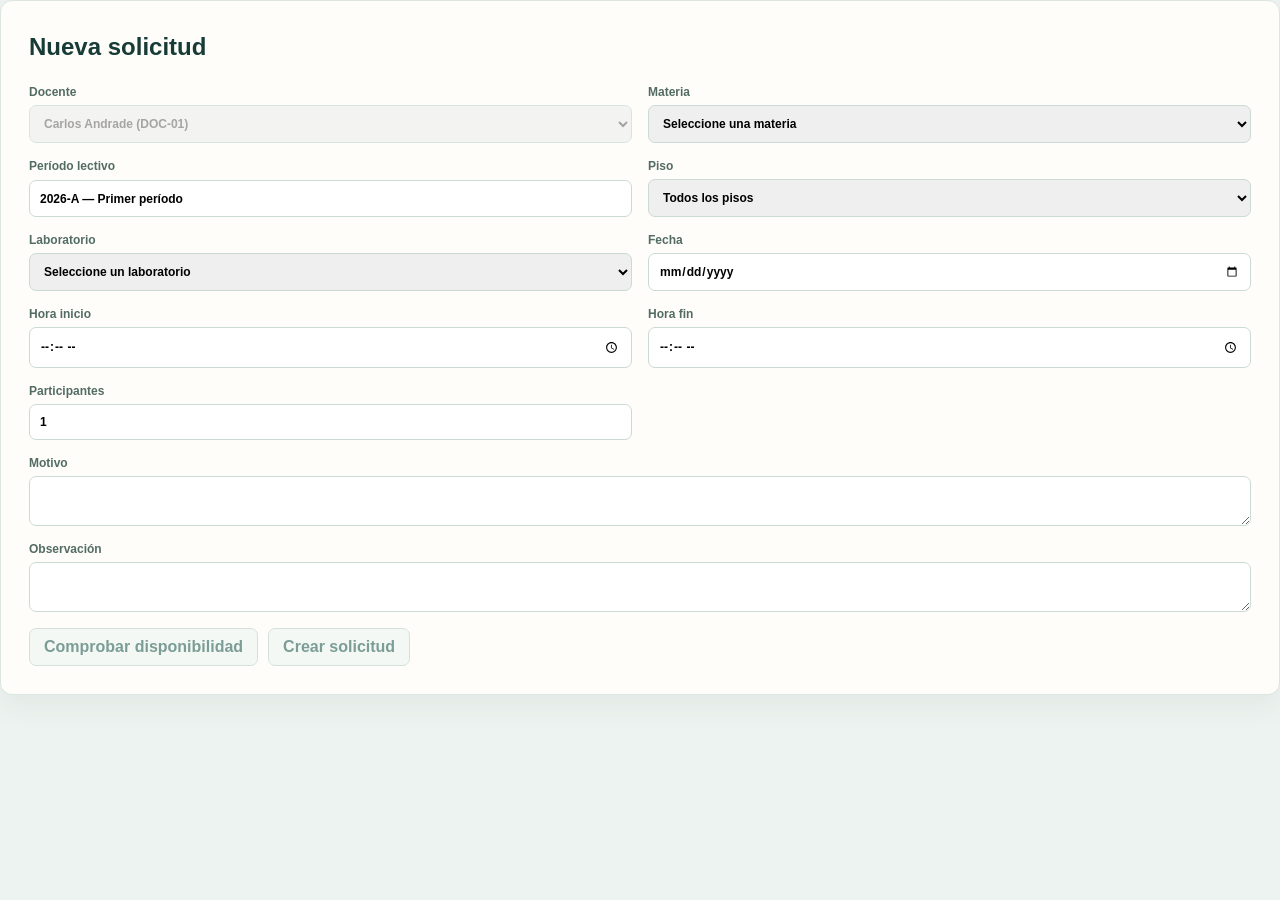
it: NuevaSolicitudPage › comprueba disponibilidad con una explicación humana
Select "MAT-1 — Redes I" in the dropdown labelled "Materia" at (950, 124), box left=648, top=105, right=1251, bottom=143
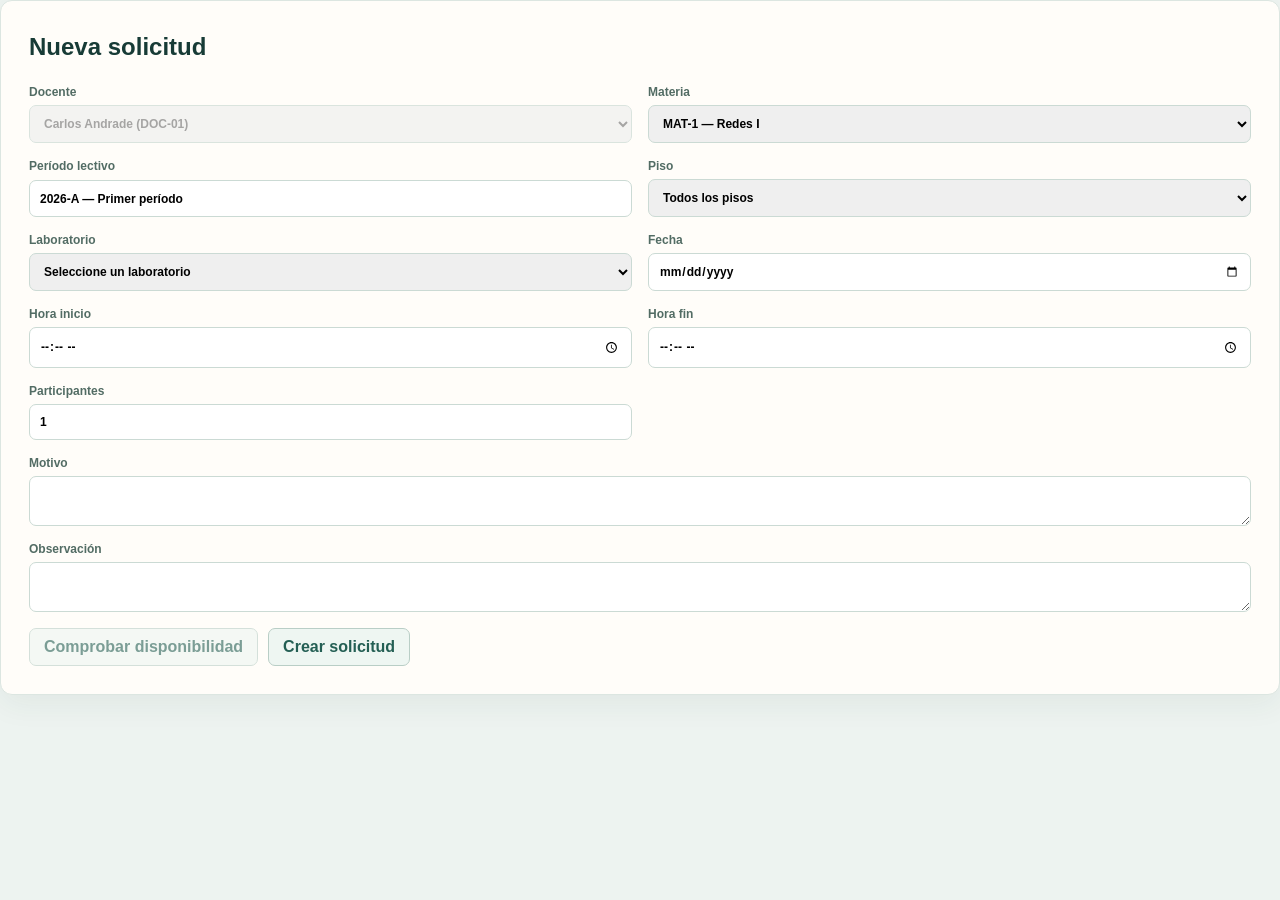
Select "LAB-1 — Redes — Piso 2" in the dropdown labelled "Laboratorio" at (330, 272), box left=29, top=253, right=632, bottom=291
Type "2099-08-20" into the date field labelled "Fecha" at (950, 272), box left=648, top=253, right=1251, bottom=291
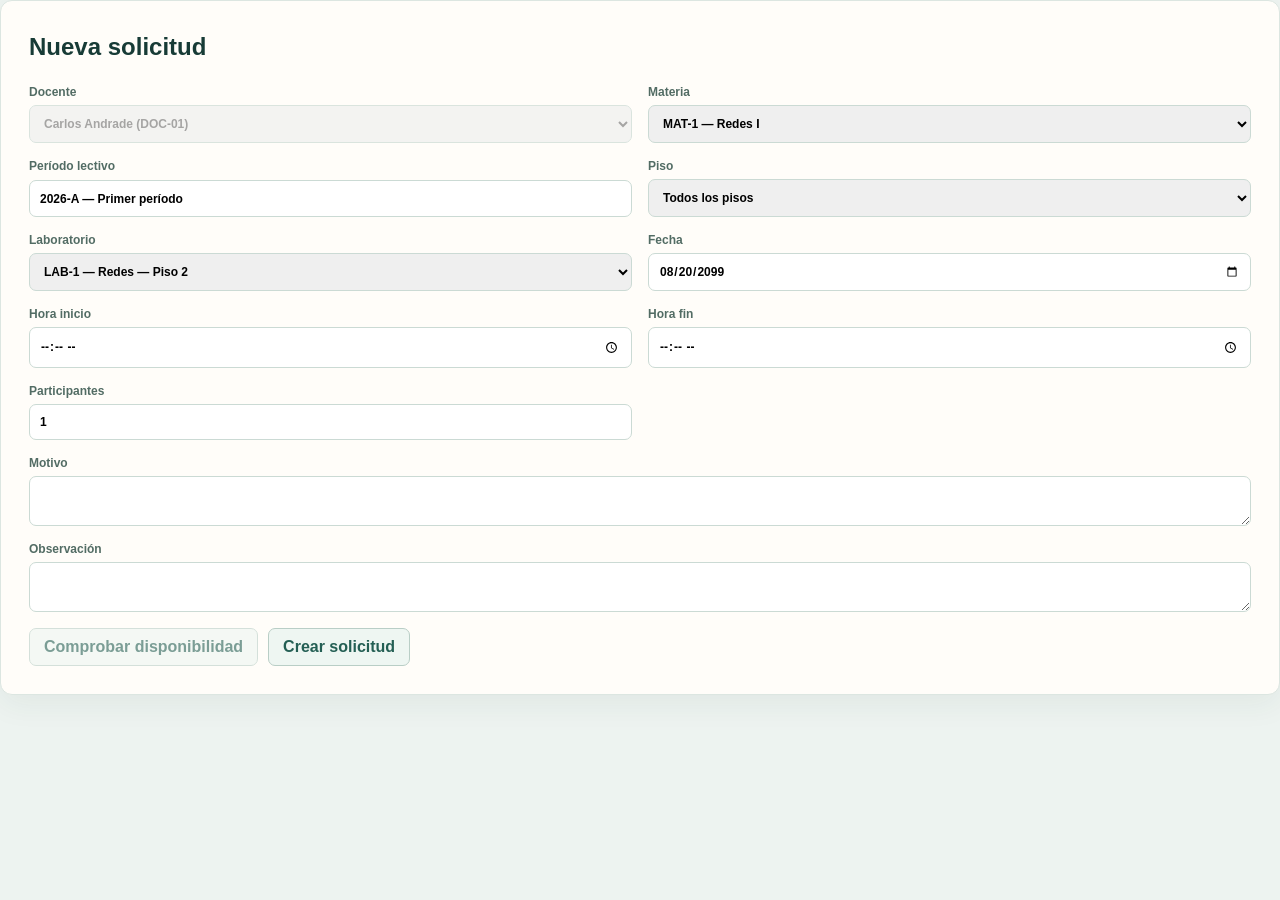
Type "08:00" into the time field labelled "Hora inicio" at (330, 347), box left=29, top=327, right=632, bottom=368
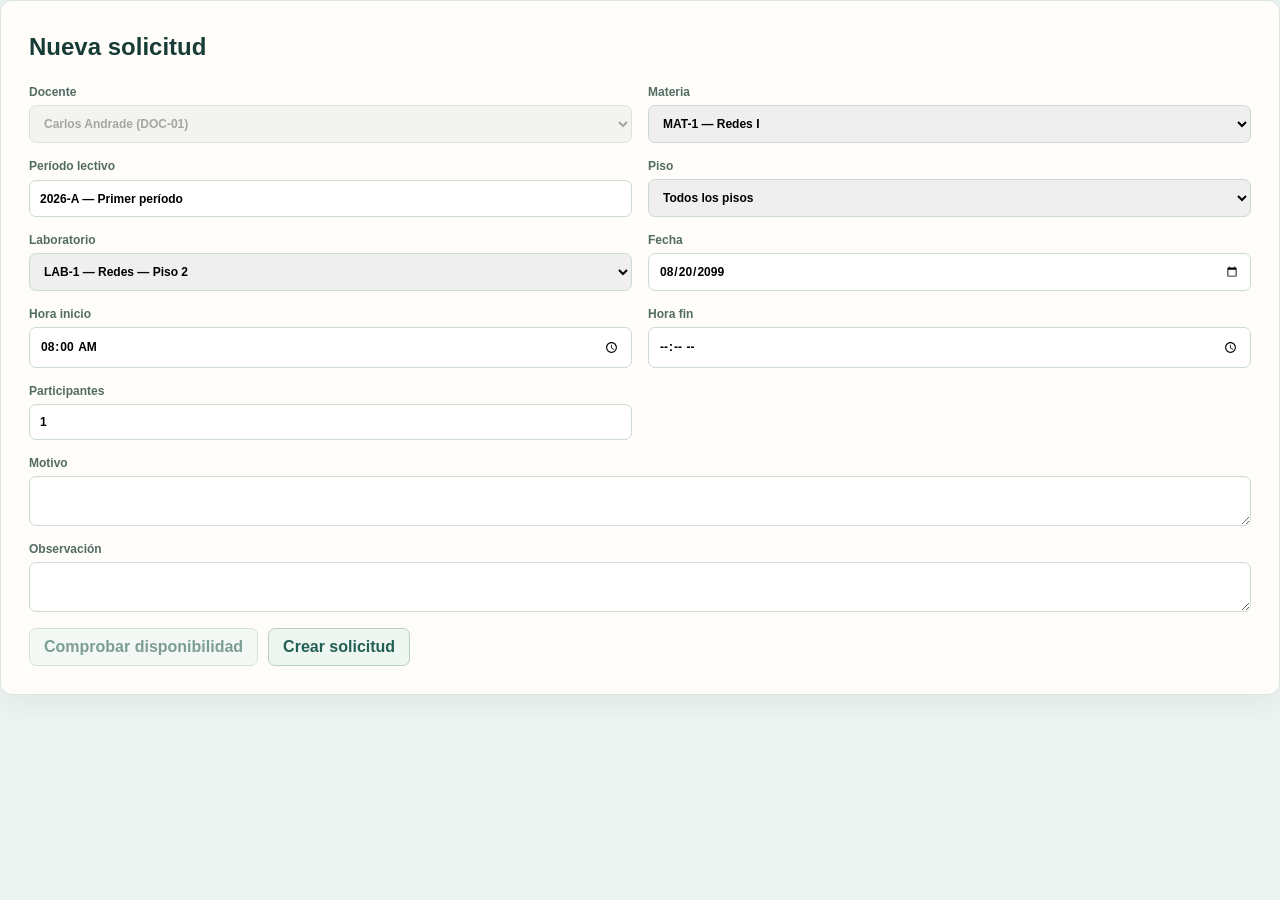
Type "10:00" into the time field labelled "Hora fin" at (950, 347), box left=648, top=327, right=1251, bottom=368
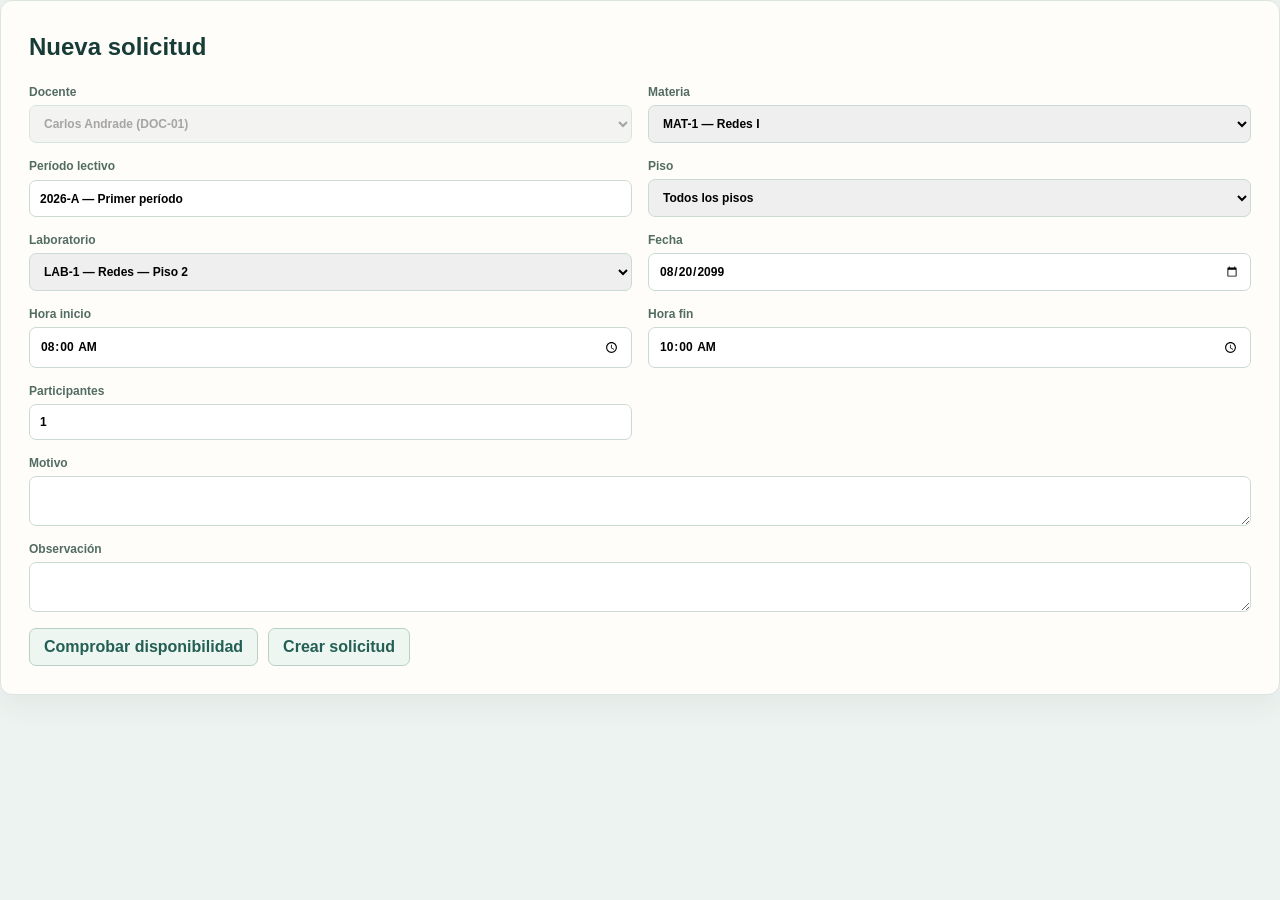
Type "Clase práctica" into the text box labelled "Motivo" at (640, 501), box left=29, top=476, right=1251, bottom=526
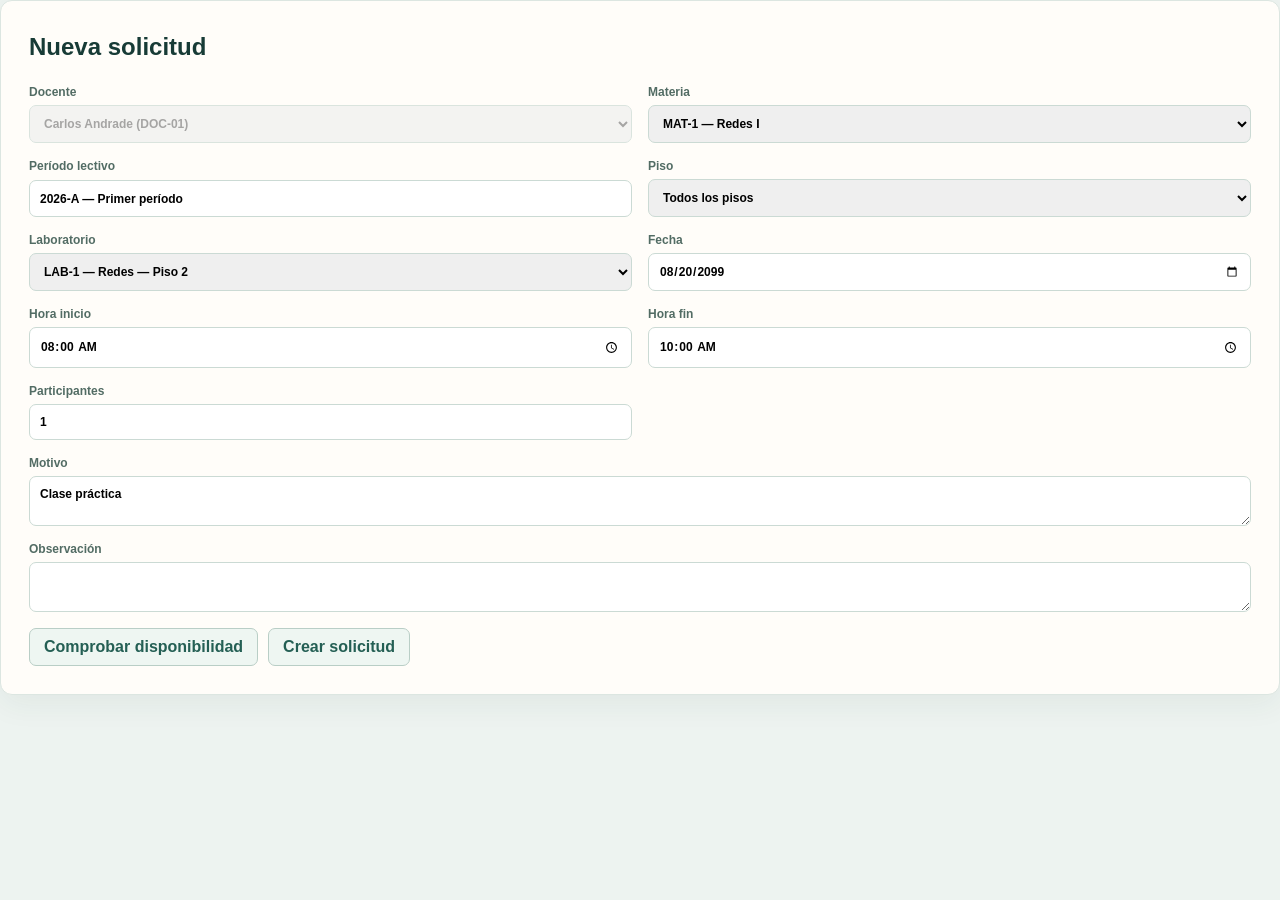
Click the button "Comprobar disponibilidad" at (144, 647), box left=29, top=628, right=258, bottom=666
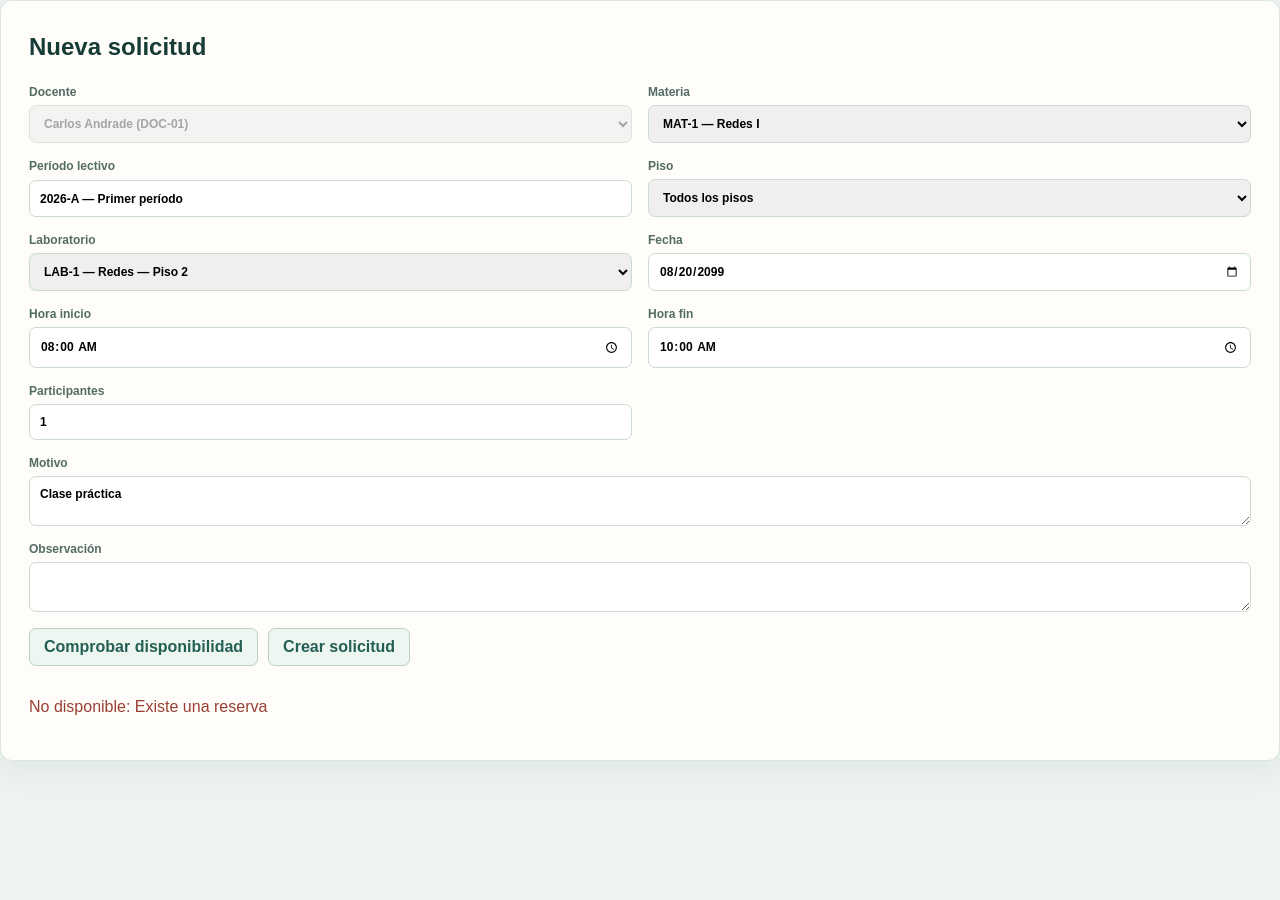
Expected: the text "No disponible: Existe una reserva" is shown, left=29, top=698, right=267, bottom=715
